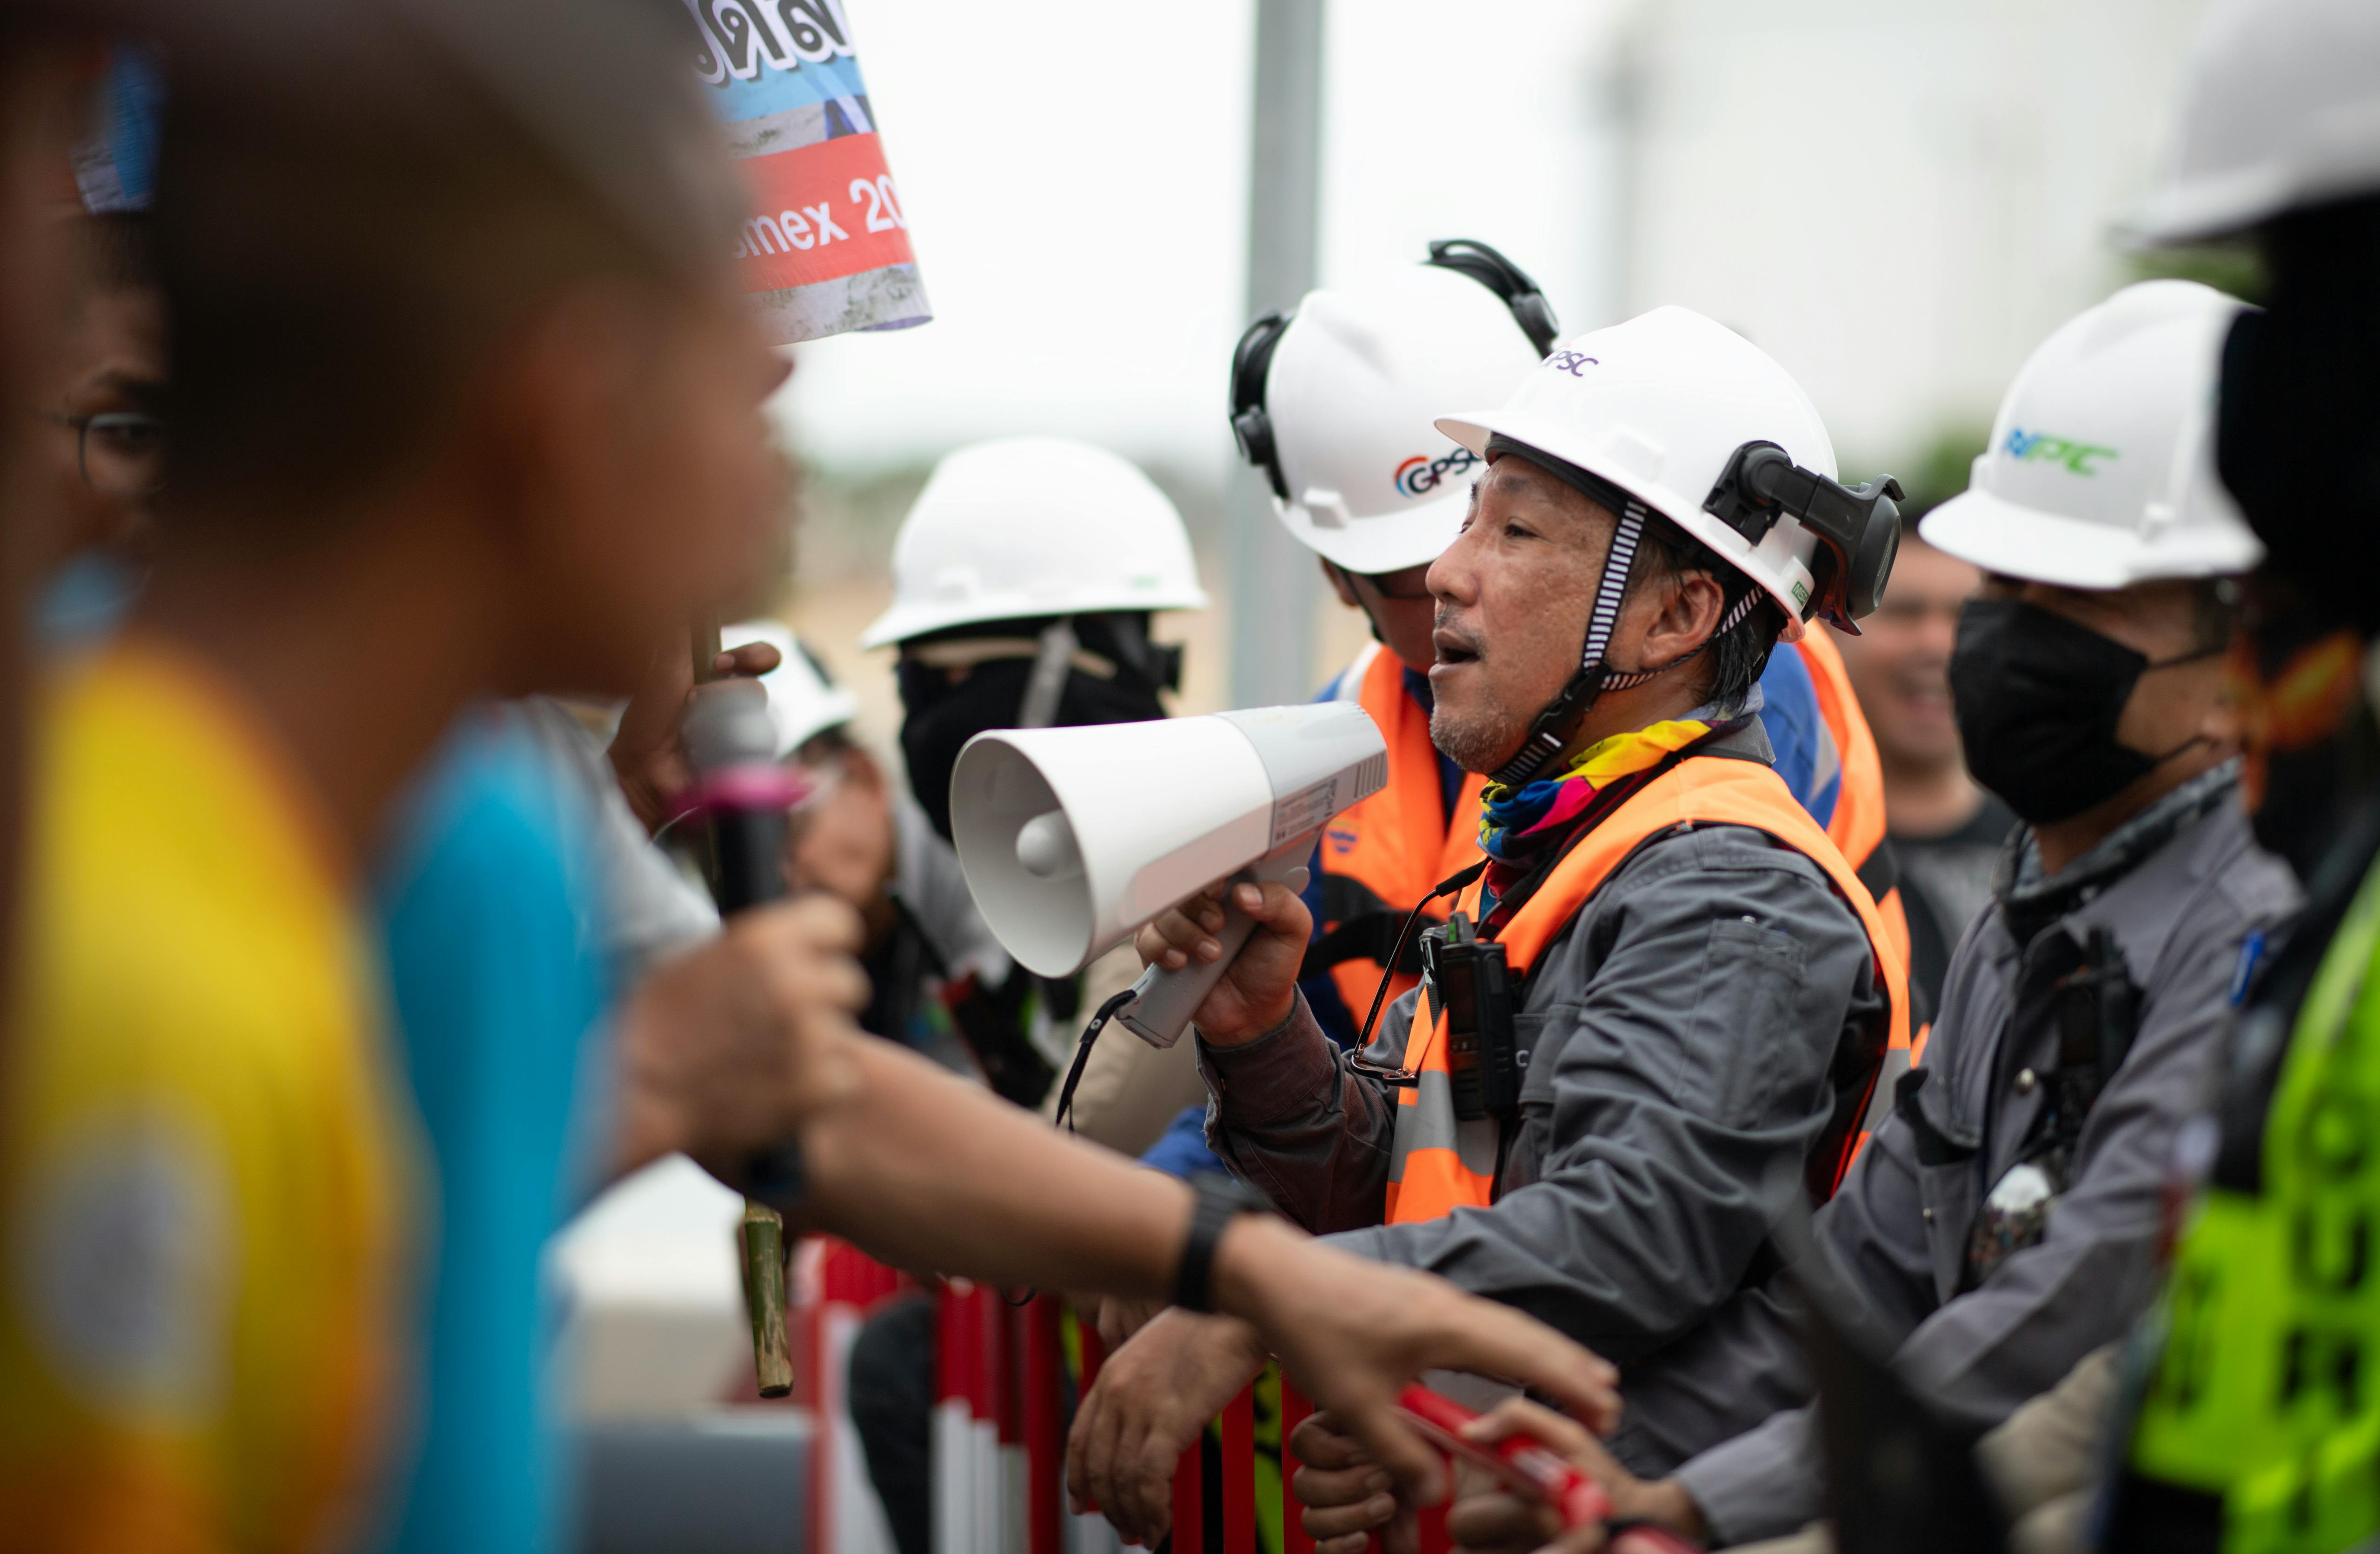capacete: (1426, 295, 1898, 652), (1913, 277, 2262, 591), (1258, 257, 1513, 578), (857, 430, 1206, 654)
